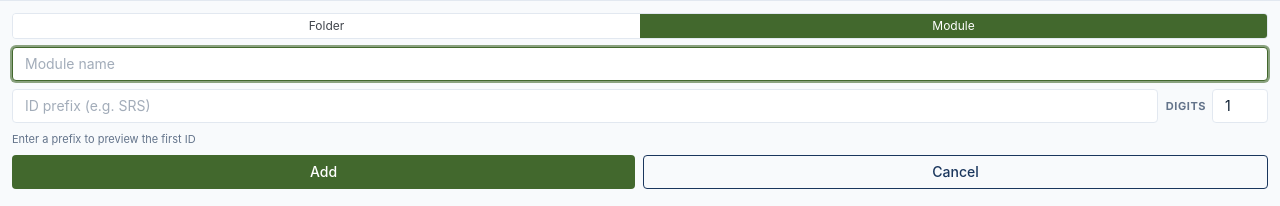
Scenario: NewModuleForm › shows no preview for a folder
The width and height of the screenshot is (1280, 206).
Type "srs" into the field with placeholder "ID prefix (e.g. SRS)" at x=585, y=106, box x1=12 y1=89 x2=1158 y2=123
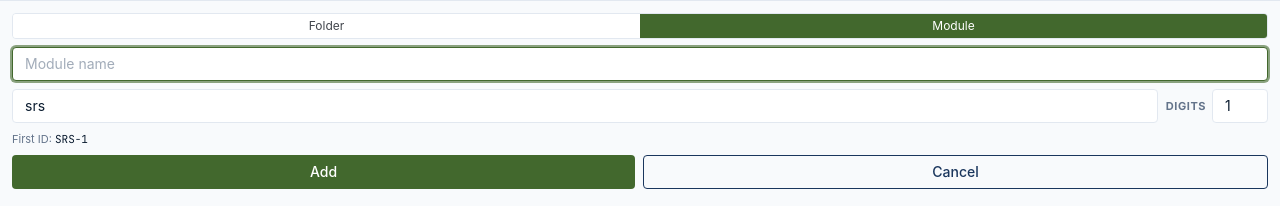
Result: the text "SRS-1" is shown at x1=55 y1=132 x2=88 y2=146
Click the button "Folder" at x=326, y=26, box x1=13 y1=14 x2=640 y2=38
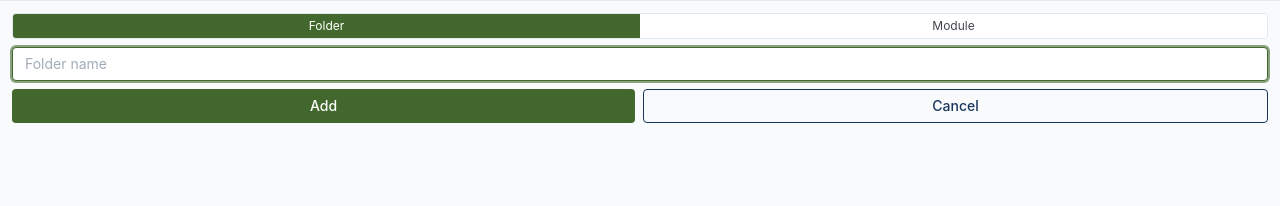
Result: the text "SRS-1" is gone
Result: the text "First ID" is gone
